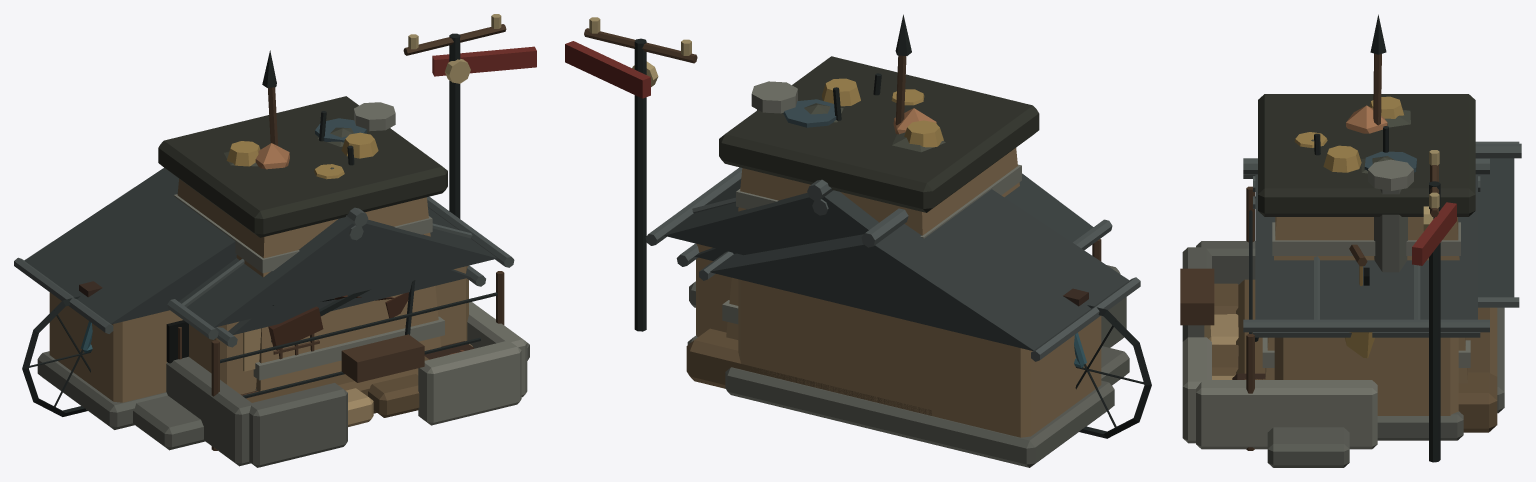
The model's file is Model_EnemyRearMiniatures.glb.
3 renders of one model, left to right at view 1: azimuth 30°, elevation 25°; view 2: azimuth 150°, elevation 25°; view 3: azimuth 270°, elevation 25°, orthographic. The views are drawn at different scales.
Parts seen in each view (by area): view 1: Model_VillageHouse_Geometry, Model_EnemyBlockhouse_Geometry, Model_RailwayStation_Geometry, Model_TrafficStation_Geometry, Model_MainForce_Geometry, Model_Militia_Geometry, Model_WorkTeam_Geometry, Model_Courier_Geometry; view 2: Model_RailwayStation_Geometry, Model_EnemyBlockhouse_Geometry, Model_VillageHouse_Geometry, Model_TrafficStation_Geometry, Model_Militia_Geometry, Model_MainForce_Geometry, Model_WorkTeam_Geometry, Model_EnemyPatrol_Geometry; view 3: Model_VillageHouse_Geometry, Model_EnemyBlockhouse_Geometry, Model_RailwayStation_Geometry, Model_Militia_Geometry, Model_WorkTeam_Geometry, Model_TrafficStation_Geometry, Model_Courier_Geometry, Model_MainForce_Geometry, Model_EnemyPatrol_Geometry.
Boxes of the visible parts, x1=… form: Model_VillageHouse_Geometry: x1=166, y1=102, x2=527, y2=467; Model_EnemyBlockhouse_Geometry: x1=158, y1=96, x2=504, y2=450; Model_RailwayStation_Geometry: x1=14, y1=14, x2=536, y2=450; Model_TrafficStation_Geometry: x1=22, y1=225, x2=485, y2=416; Model_MainForce_Geometry: x1=268, y1=111, x2=415, y2=350; Model_Militia_Geometry: x1=226, y1=50, x2=344, y2=179; Model_WorkTeam_Geometry: x1=341, y1=132, x2=378, y2=158; Model_Courier_Geometry: x1=255, y1=143, x2=289, y2=169; Model_RailwayStation_Geometry: x1=565, y1=17, x2=1140, y2=467; Model_EnemyBlockhouse_Geometry: x1=686, y1=56, x2=1101, y2=415; Model_VillageHouse_Geometry: x1=645, y1=81, x2=1126, y2=347; Model_TrafficStation_Geometry: x1=676, y1=199, x2=1151, y2=438; Model_Militia_Geometry: x1=891, y1=14, x2=943, y2=147; Model_MainForce_Geometry: x1=783, y1=87, x2=841, y2=127; Model_WorkTeam_Geometry: x1=822, y1=78, x2=860, y2=106; Model_EnemyPatrol_Geometry: x1=804, y1=73, x2=945, y2=152; Model_VillageHouse_Geometry: x1=1180, y1=158, x2=1489, y2=449; Model_EnemyBlockhouse_Geometry: x1=1204, y1=94, x2=1497, y2=450; Model_RailwayStation_Geometry: x1=1267, y1=141, x2=1521, y2=467; Model_Militia_Geometry: x1=1294, y1=14, x2=1403, y2=147; Model_WorkTeam_Geometry: x1=1323, y1=145, x2=1374, y2=358; Model_TrafficStation_Geometry: x1=1232, y1=176, x2=1480, y2=379; Model_Courier_Geometry: x1=1346, y1=105, x2=1387, y2=133; Model_MainForce_Geometry: x1=1255, y1=126, x2=1416, y2=341; Model_EnemyPatrol_Geometry: x1=1311, y1=109, x2=1410, y2=173.
Bounding box in the file's own units: 2.64 × 1.59 × 1.41.
